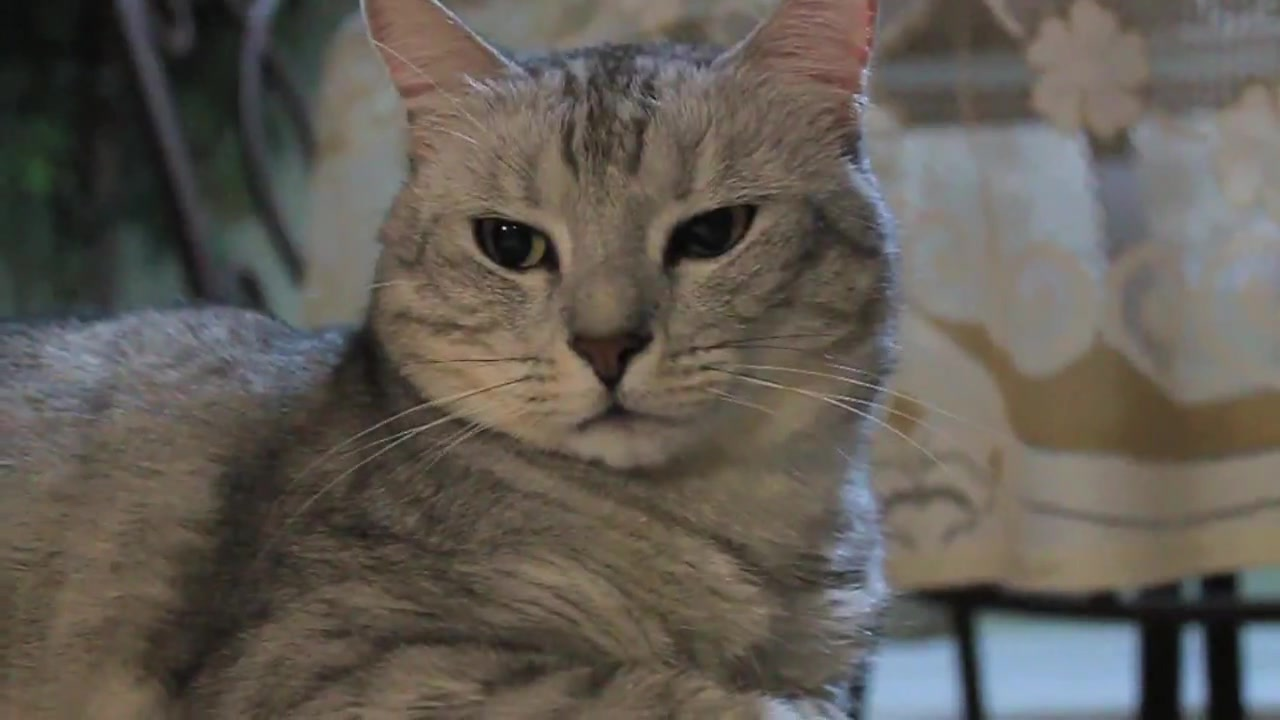cat: (1, 1, 906, 720)
